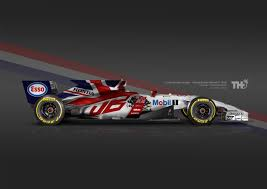f1_car: (18, 76, 254, 131)
